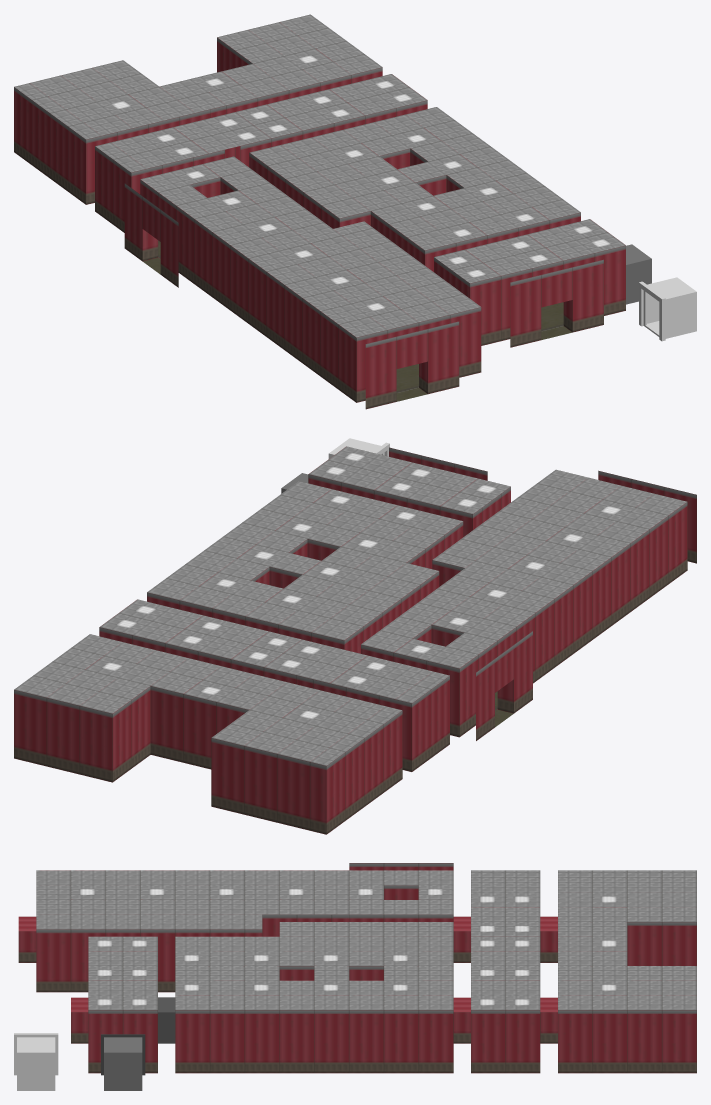
The model's file is DeathFloorModelPack1.fbx.
3 views of the same model, one above another, from view 1: azimuth 30°, elevation 25°; view 2: azimuth 150°, elevation 25°; view 3: azimuth 270°, elevation 25° (orthographic). The views are drawn at different scales.
Parts seen in each view (by area): view 1: A_LongOffice, A_WorkOfficeCeil, A_LongOfficeCeil, A_LeasureRoomCeil, A_Entrance, A_CorridorCeil, A_LeasureRoom, A_EntranceCeil, A_WorkOffice, A_Corridor, ElevMainCol, Elevator; view 2: A_LeasureRoom, A_WorkOfficeCeil, A_LongOfficeCeil, A_LongOffice, A_LeasureRoomCeil, A_CorridorCeil, A_Corridor, A_EntranceCeil, A_WorkOffice, A_Entrance; view 3: A_WorkOfficeCeil, A_LongOfficeCeil, A_WorkOffice, A_LeasureRoomCeil, A_LeasureRoom, A_LongOffice, A_CorridorCeil, A_EntranceCeil, A_Corridor, A_Entrance, ElevMainCol, Elevator (+1 smaller).
Part boxes in pixels (<box>): A_LongOffice: <box>124,177,481,409</box>; A_WorkOfficeCeil: <box>250,107,580,250</box>; A_LongOfficeCeil: <box>140,156,480,337</box>; A_LeasureRoomCeil: <box>14,14,382,139</box>; A_Entrance: <box>434,245,625,347</box>; A_CorridorCeil: <box>95,74,427,172</box>; A_LeasureRoom: <box>14,37,382,204</box>; A_EntranceCeil: <box>434,219,625,283</box>; A_WorkOffice: <box>249,148,580,271</box>; A_Corridor: <box>95,100,427,232</box>; ElevMainCol: <box>639,277,696,341</box>; Elevator: <box>626,244,651,304</box>; A_LeasureRoom: <box>14,686,402,834</box>; A_WorkOfficeCeil: <box>147,481,462,640</box>; A_LongOfficeCeil: <box>361,469,686,668</box>; A_LongOffice: <box>361,470,696,740</box>; A_LeasureRoomCeil: <box>14,634,401,765</box>; A_CorridorCeil: <box>100,599,449,703</box>; A_Corridor: <box>99,627,449,771</box>; A_EntranceCeil: <box>309,446,510,513</box>; A_WorkOffice: <box>147,521,463,653</box>; A_Entrance: <box>308,447,510,536</box>; A_WorkOfficeCeil: <box>175,922,453,1009</box>; A_LongOfficeCeil: <box>36,870,453,929</box>; A_WorkOffice: <box>175,966,470,1073</box>; A_LeasureRoomCeil: <box>558,870,696,1009</box>; A_LeasureRoom: <box>540,916,696,1073</box>; A_LongOffice: <box>18,863,470,992</box>; A_CorridorCeil: <box>471,870,540,1009</box>; A_EntranceCeil: <box>88,936,157,1009</box>; A_Corridor: <box>471,1010,540,1073</box>; A_Entrance: <box>71,997,157,1073</box>; ElevMainCol: <box>14,1033,58,1090</box>; Elevator: <box>101,1034,145,1090</box>.
Size of the model in its own units: 22.17 by 4.11 by 39.28.
